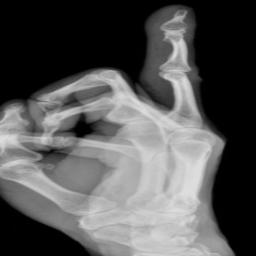cancer: (160, 21, 185, 31)
